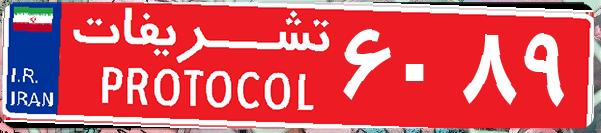0: (400, 20, 460, 115)
6: (340, 20, 400, 115)
8: (460, 20, 520, 115)
9: (520, 20, 580, 115)
تشریفات: (60, 8, 340, 125)
